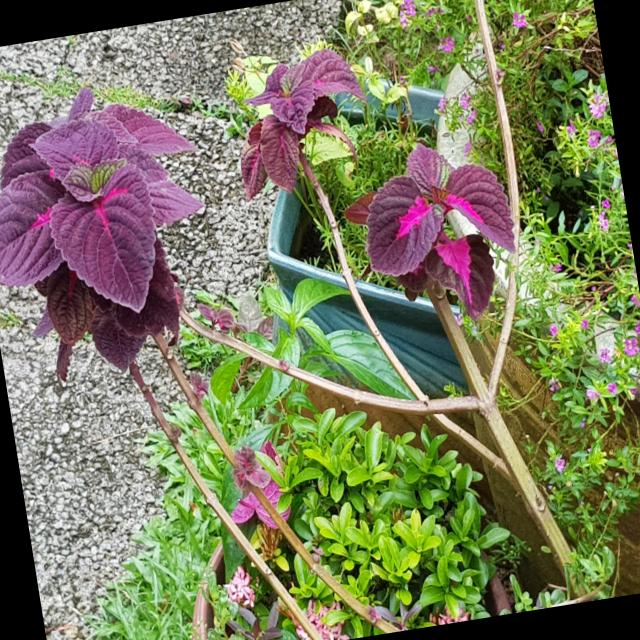Coleus: (0, 70, 225, 388), (351, 127, 531, 325), (223, 37, 364, 202)
